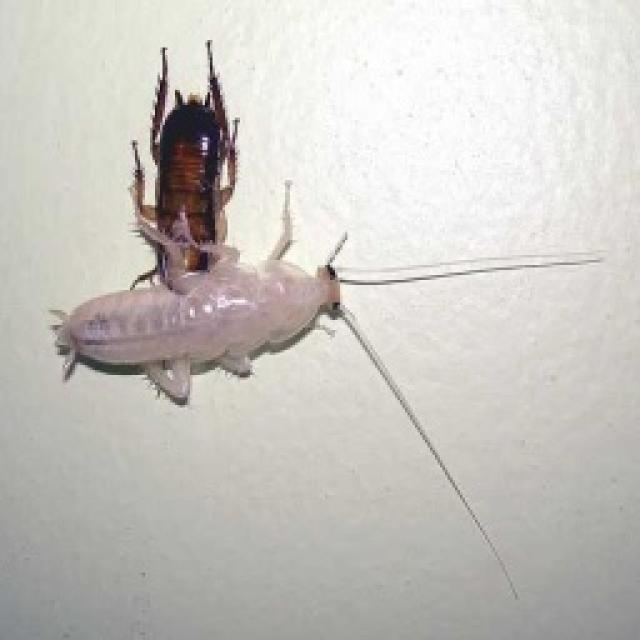cockroach: (44, 219, 392, 416), (119, 26, 236, 282)
